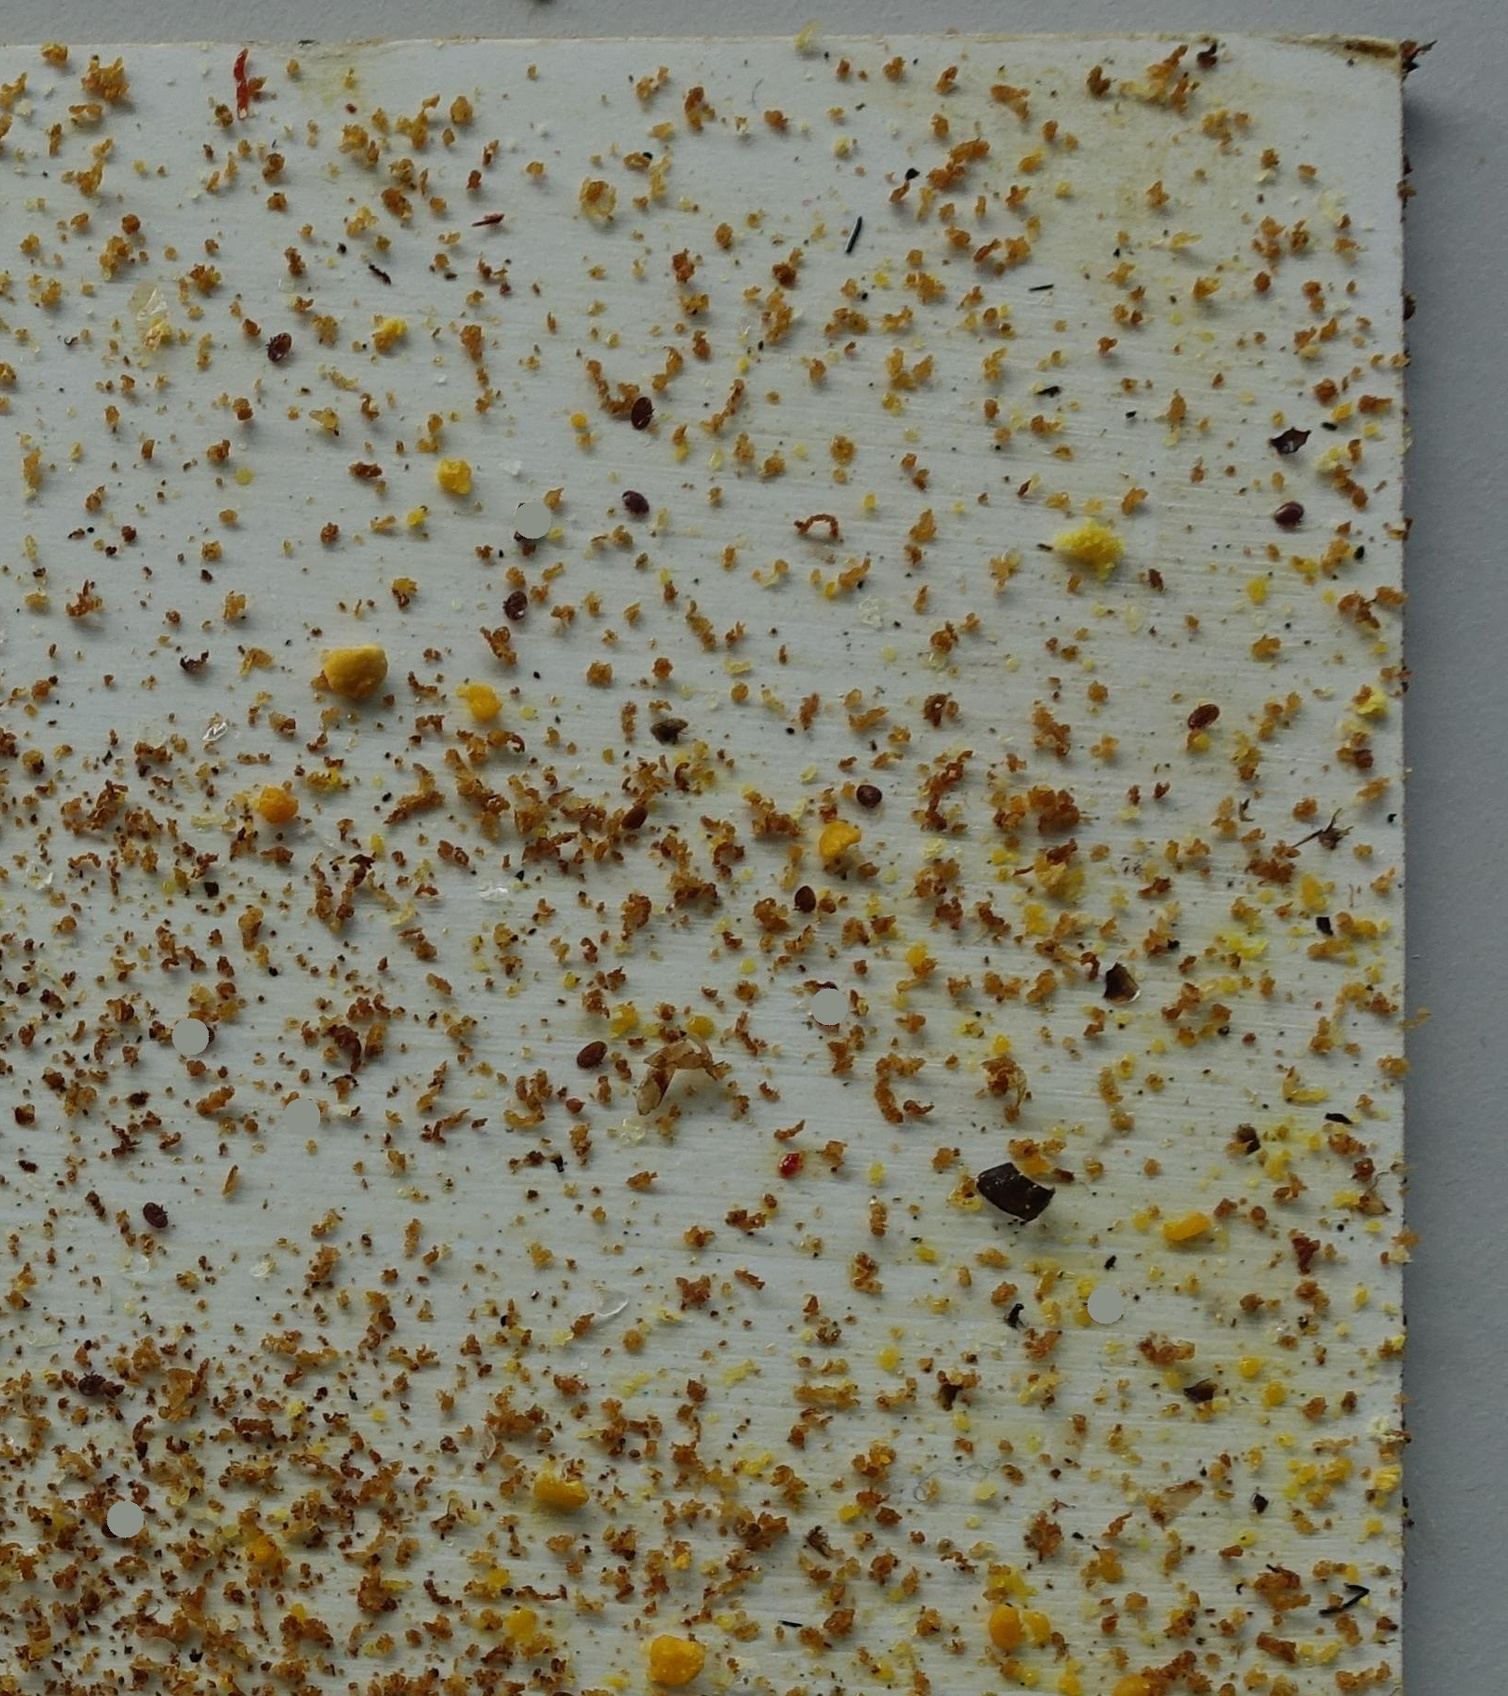Varroa: (501, 578, 531, 610), (853, 776, 881, 805), (79, 1373, 106, 1398), (622, 796, 646, 823), (629, 400, 654, 427), (581, 1042, 606, 1069), (144, 1202, 167, 1230), (789, 885, 815, 908), (93, 1520, 121, 1542), (1277, 504, 1301, 527), (1186, 708, 1211, 731), (814, 978, 838, 1002), (627, 499, 642, 515), (199, 1029, 213, 1042), (512, 603, 524, 616), (279, 346, 291, 358)
